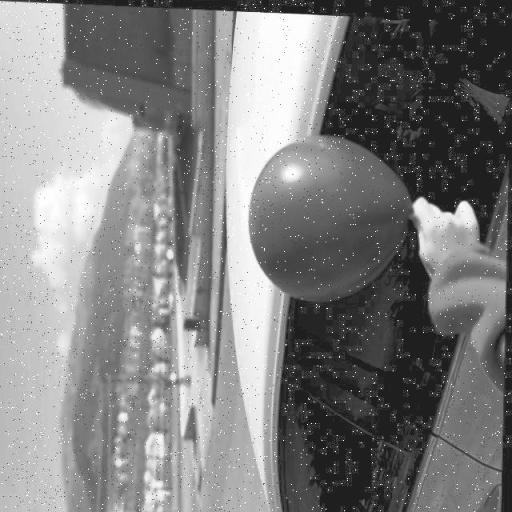balloon: (245, 128, 415, 302)
